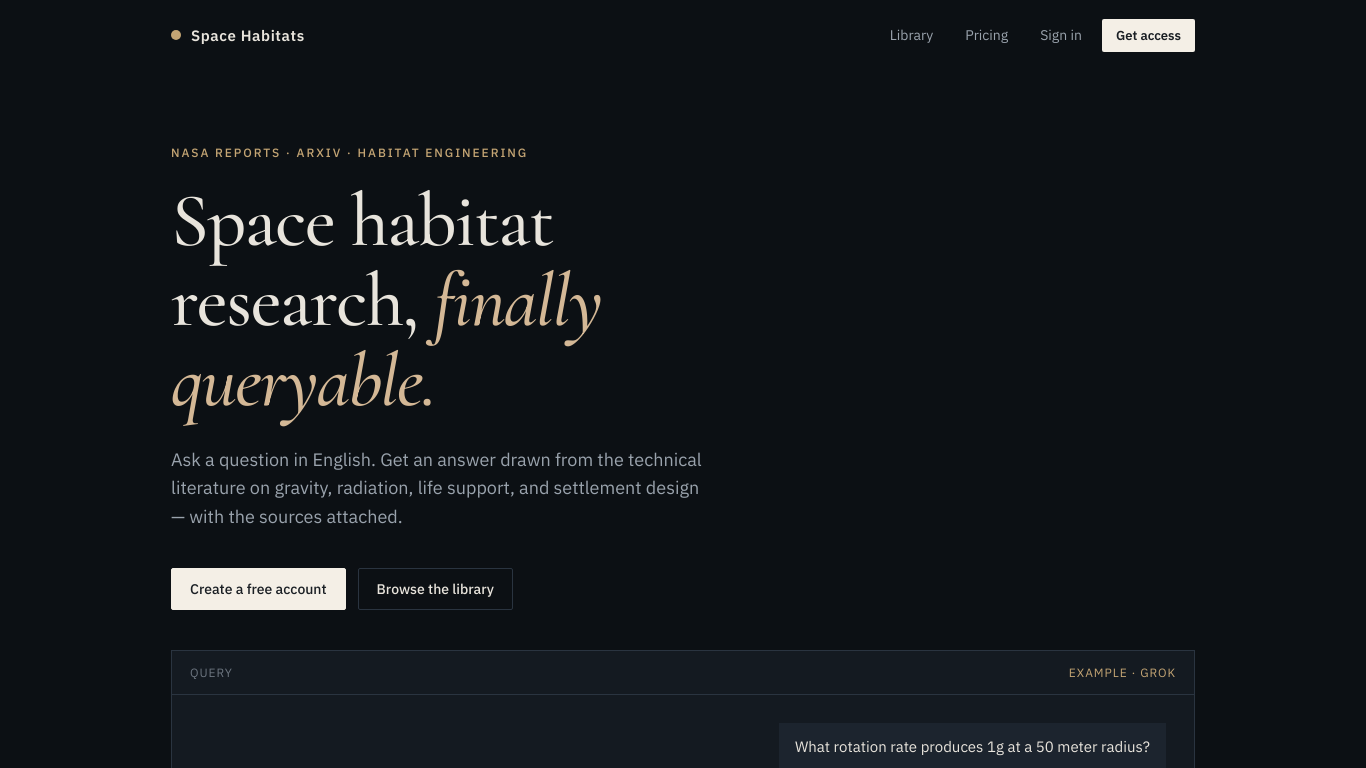
LandingPage › opens registration from Get access
Click the button "Get access".
click(1148, 35)  # box [1102, 18, 1195, 52]
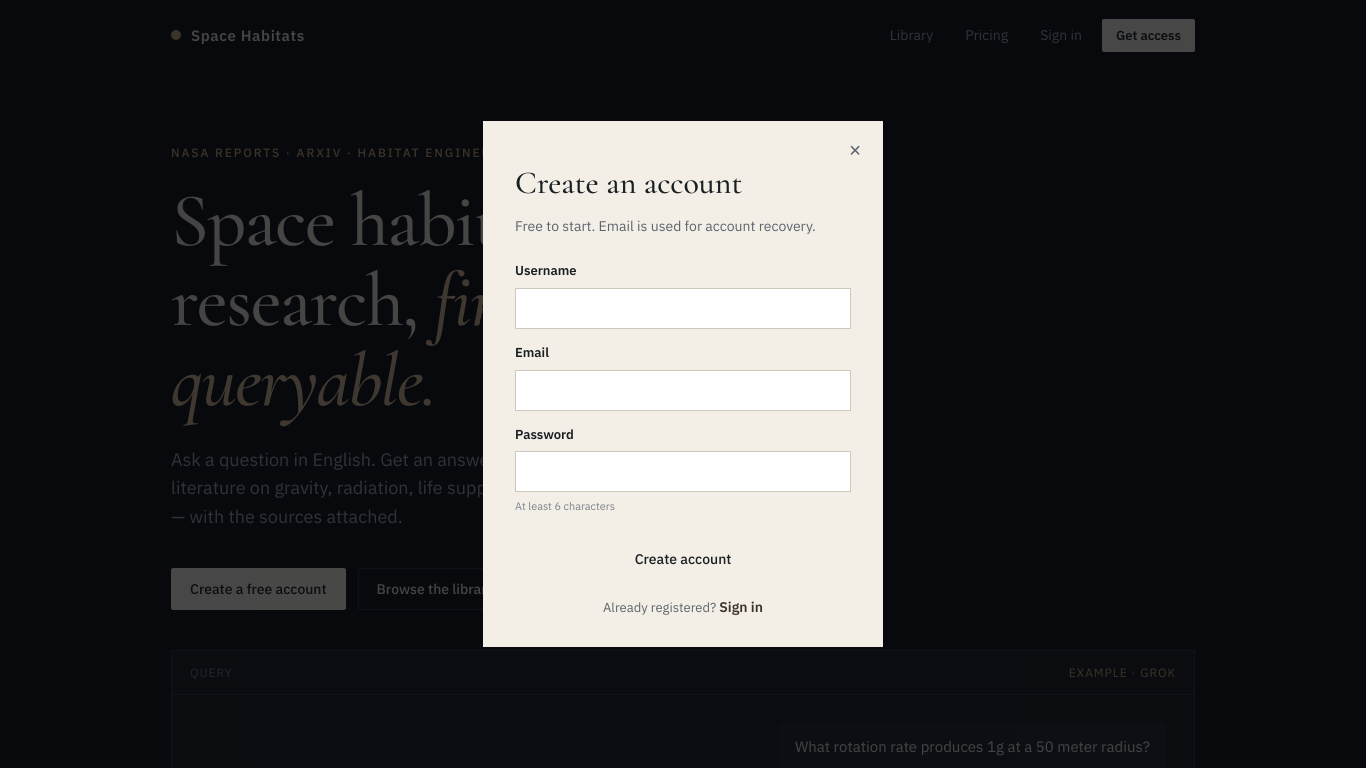
Check: the heading "Create an account" is shown, box [515, 164, 742, 202]
